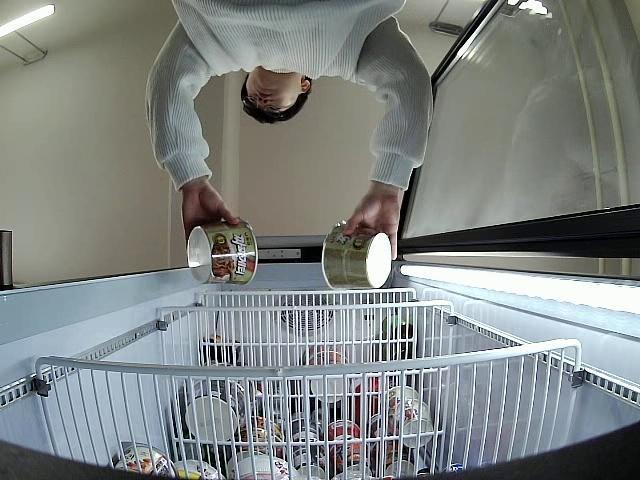03_chapagetti_L: (187, 214, 258, 286), (322, 222, 391, 290)
